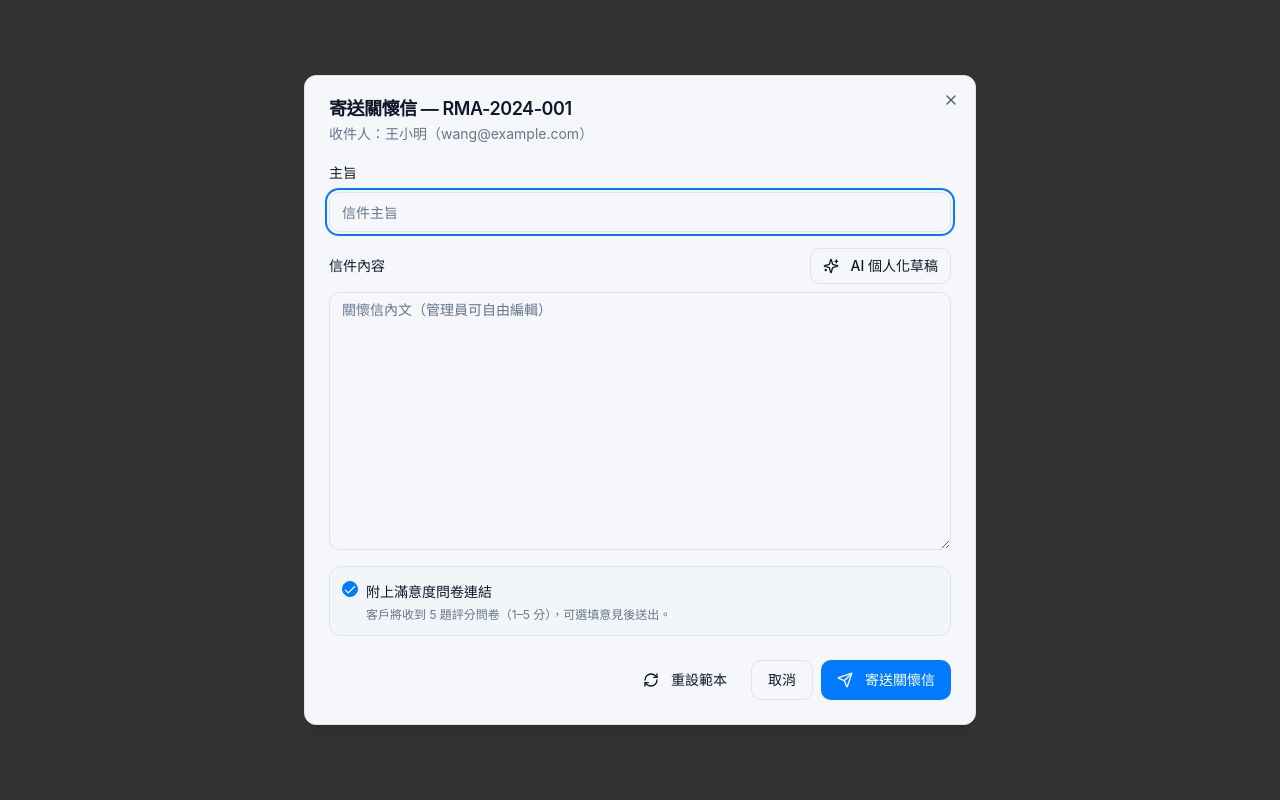
Test: FollowUpEmailDialog - 寄送行為 › 取消勾選 checkbox → 送出 includeSurvey: false
Later steps or results of the test are not shown.
Click the checkbox: (350, 589) 342,581 -> 358,597
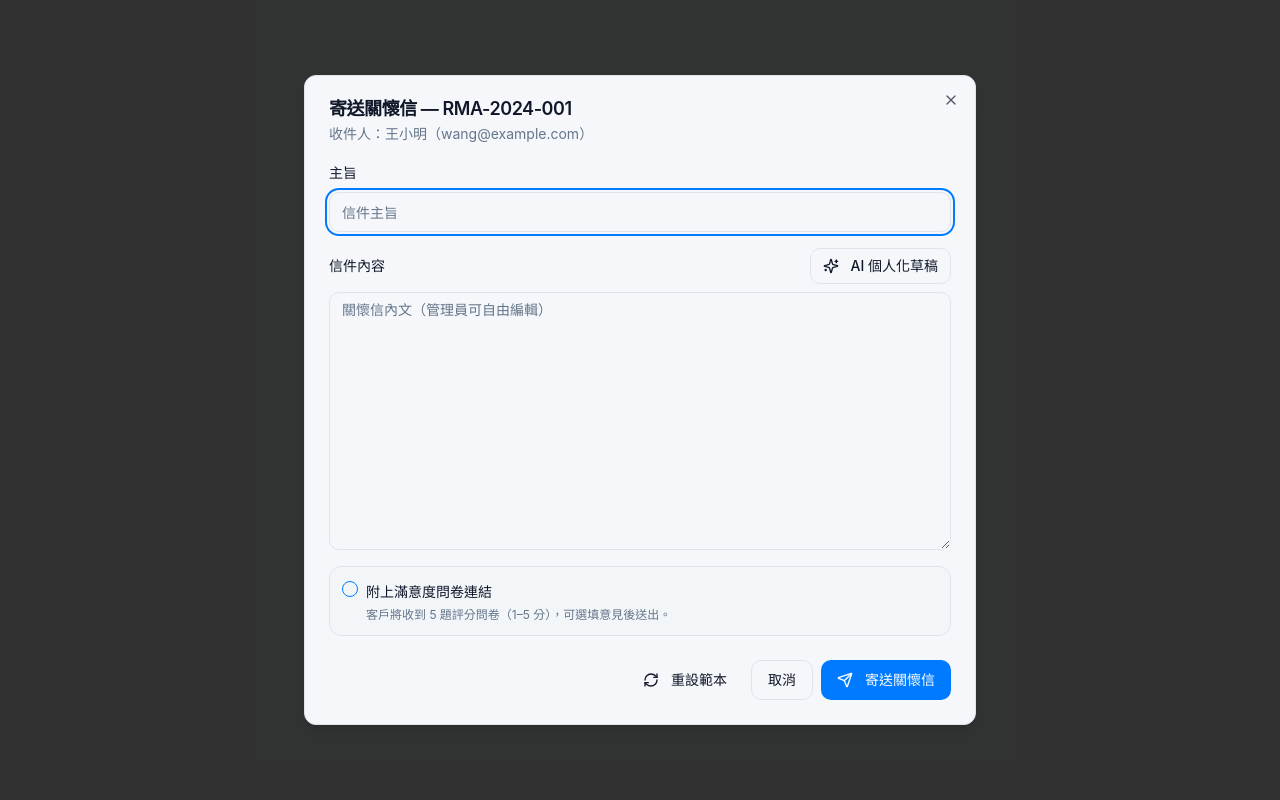
Expected: the checkbox is not checked, 342,581 -> 358,597
